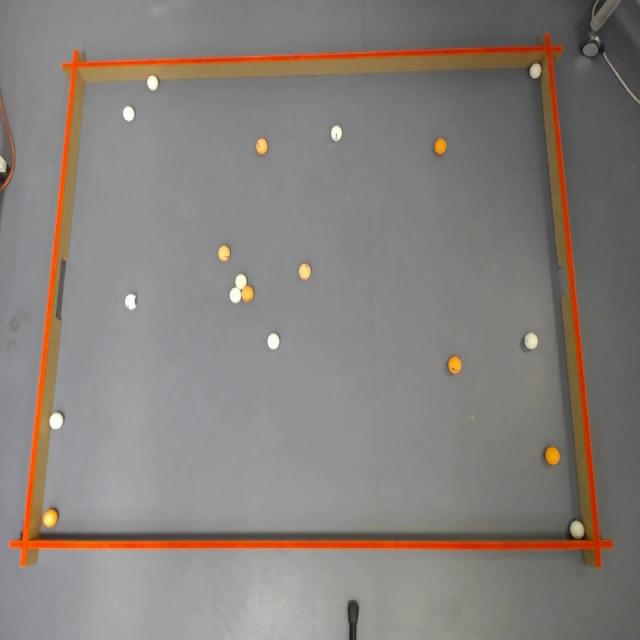orange_ball: (545, 446, 560, 466), (43, 508, 58, 528), (448, 356, 461, 374), (255, 138, 268, 155), (434, 138, 446, 155), (218, 245, 230, 262), (242, 285, 254, 302), (298, 263, 310, 279)
white_ball: (569, 520, 585, 539), (49, 412, 64, 429), (524, 332, 538, 350), (529, 62, 542, 79), (122, 105, 134, 122), (268, 333, 280, 349), (125, 294, 137, 310), (235, 273, 247, 289), (331, 125, 342, 142), (147, 75, 158, 91), (230, 288, 241, 304)
